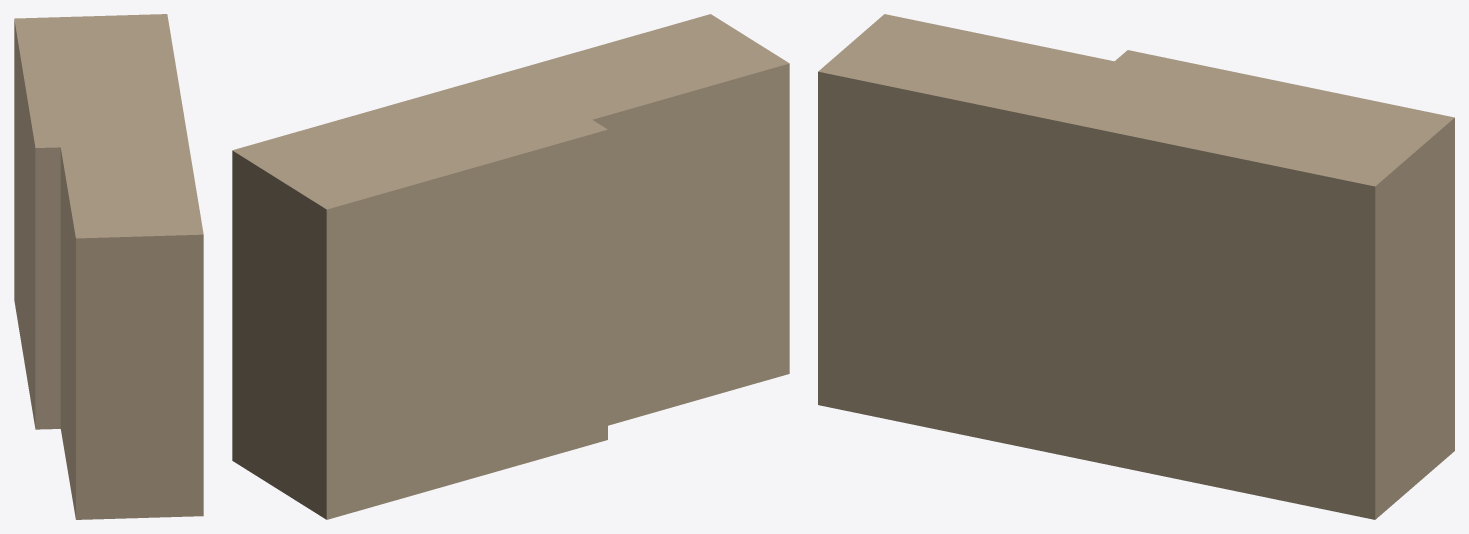
The model's file is bld_99520266.dae.
The picture shows the model from 3 angles, left to right: view 1: azimuth 30°, elevation 25°; view 2: azimuth 150°, elevation 25°; view 3: azimuth 270°, elevation 25°; orthographic projection. The views are drawn at different scales.
Visible parts, largest first — view 1: bld_99520266; view 2: bld_99520266; view 3: bld_99520266.
Boxes of the visible parts, bbox=[...] form: bld_99520266: bbox=[14, 14, 203, 519]; bld_99520266: bbox=[232, 14, 789, 519]; bld_99520266: bbox=[818, 14, 1454, 519].
Bounding box in the file's own units: 8.88 × 13.85 × 8.
